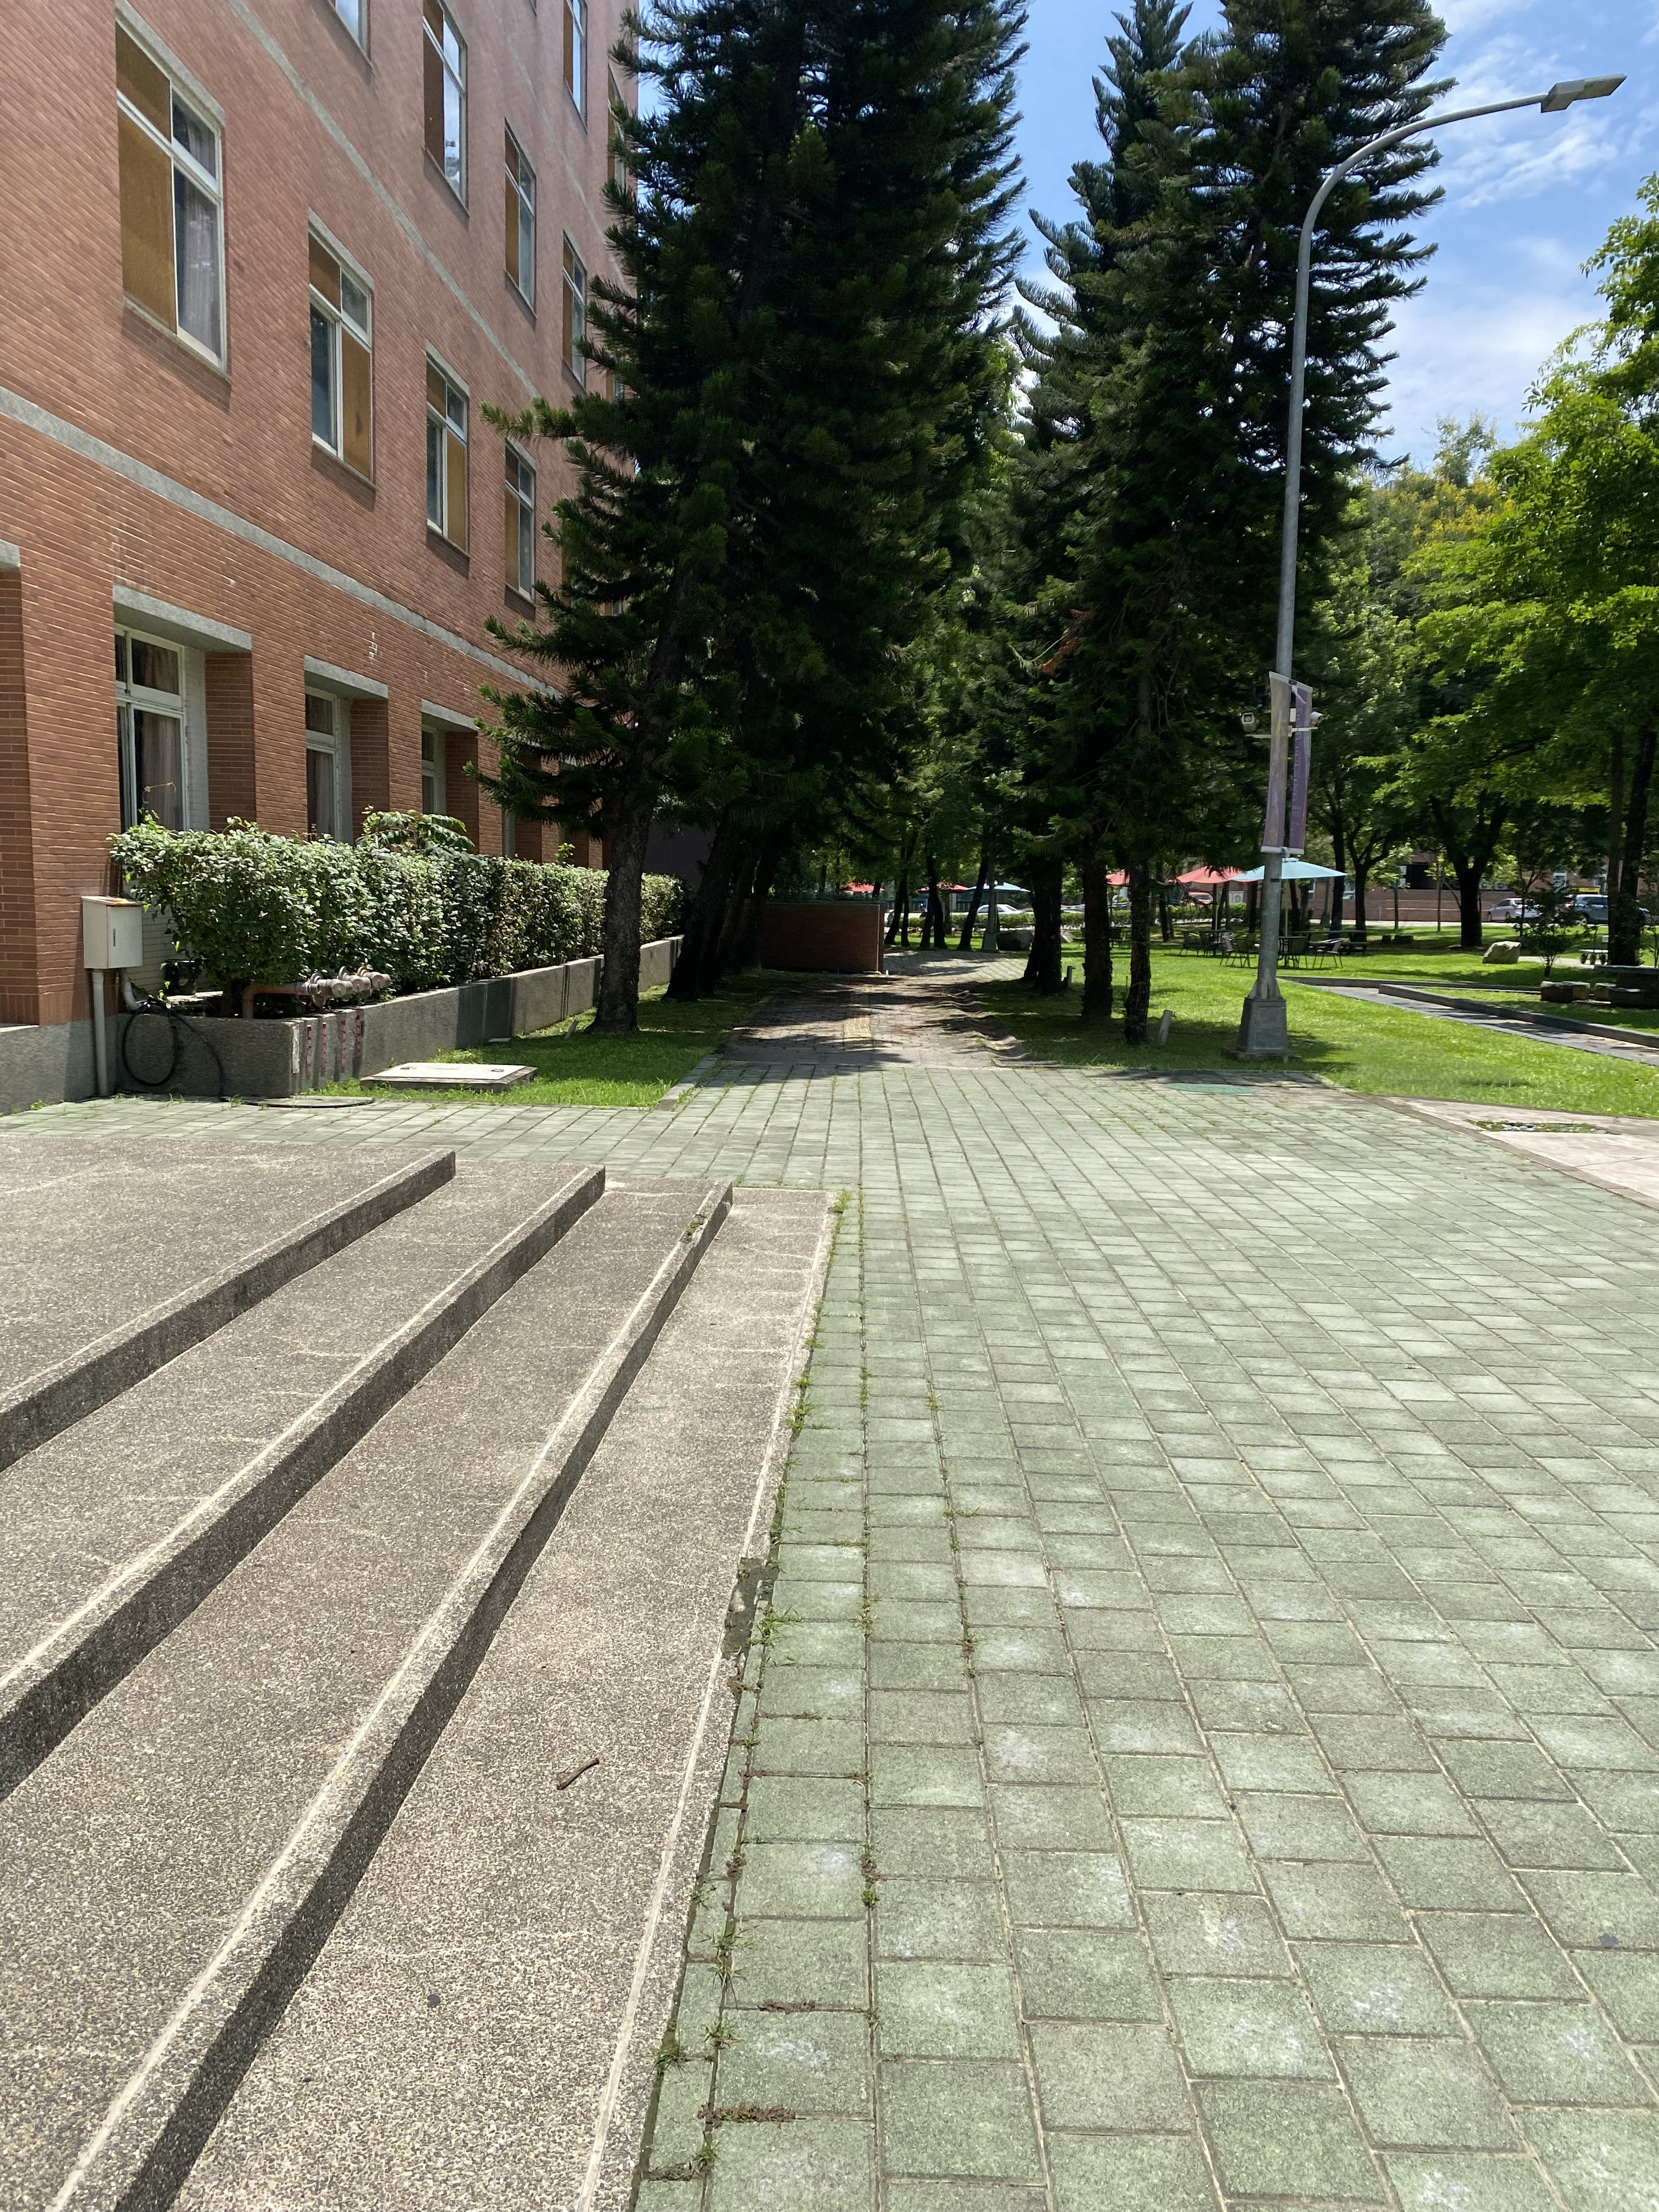sidewalk: (573, 899, 1659, 2212)
